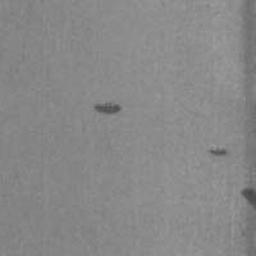Oil spot: (241, 186, 256, 212), (207, 147, 228, 156)
